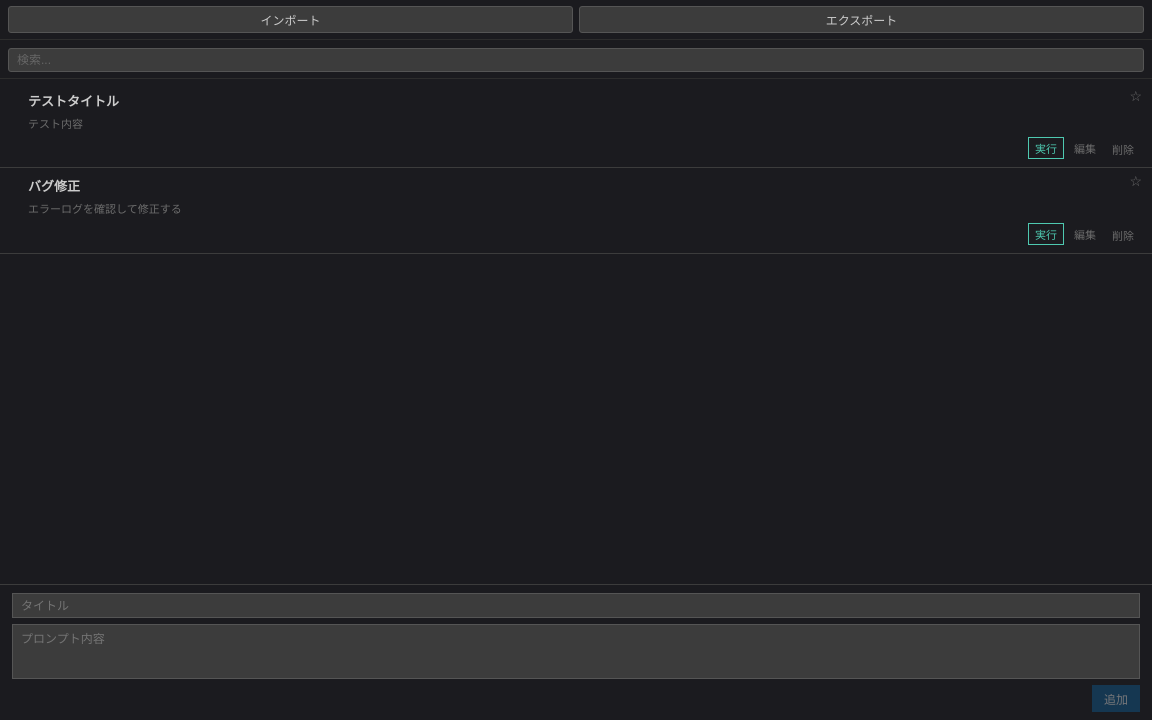
Test case: PromptsPanel › 検索 UI › content にマッチする query で絞り込まれる
The image size is (1152, 720).
Type "エラーログ" into the search field.
click(576, 60); type("エラーログ")  # box [8,48,1144,72]
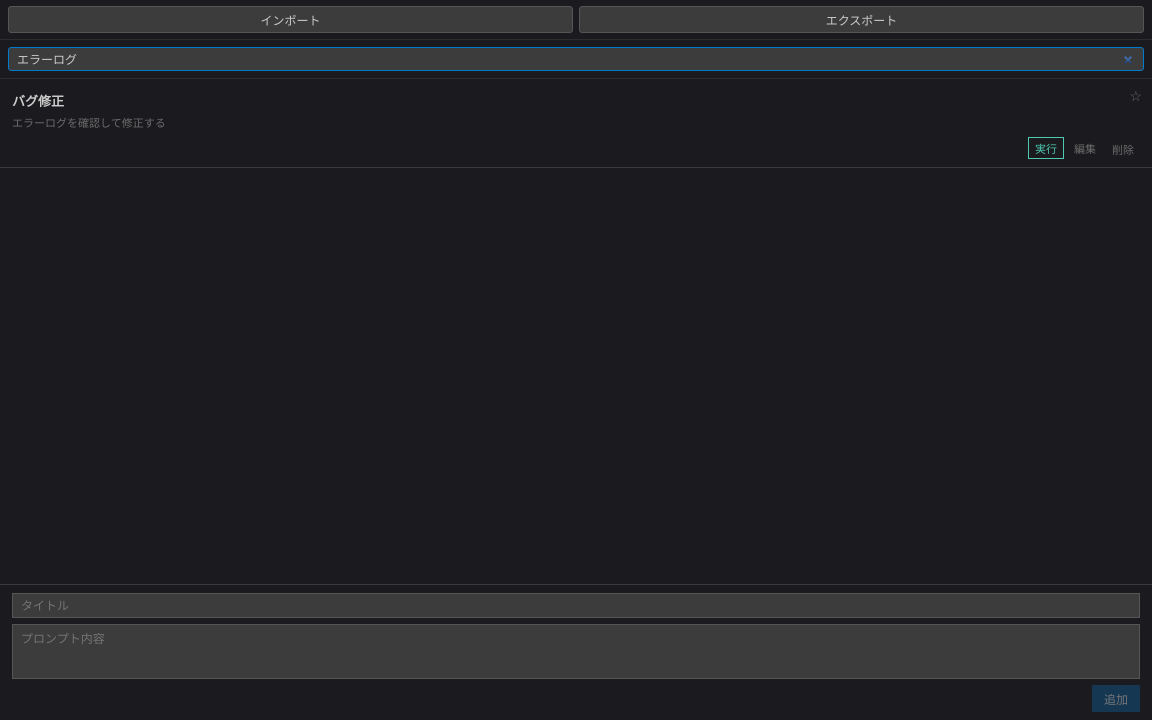
expect the text "バグ修正" is shown: met, box [12,93,64,109]
expect the text "テストタイトル" is gone: met
